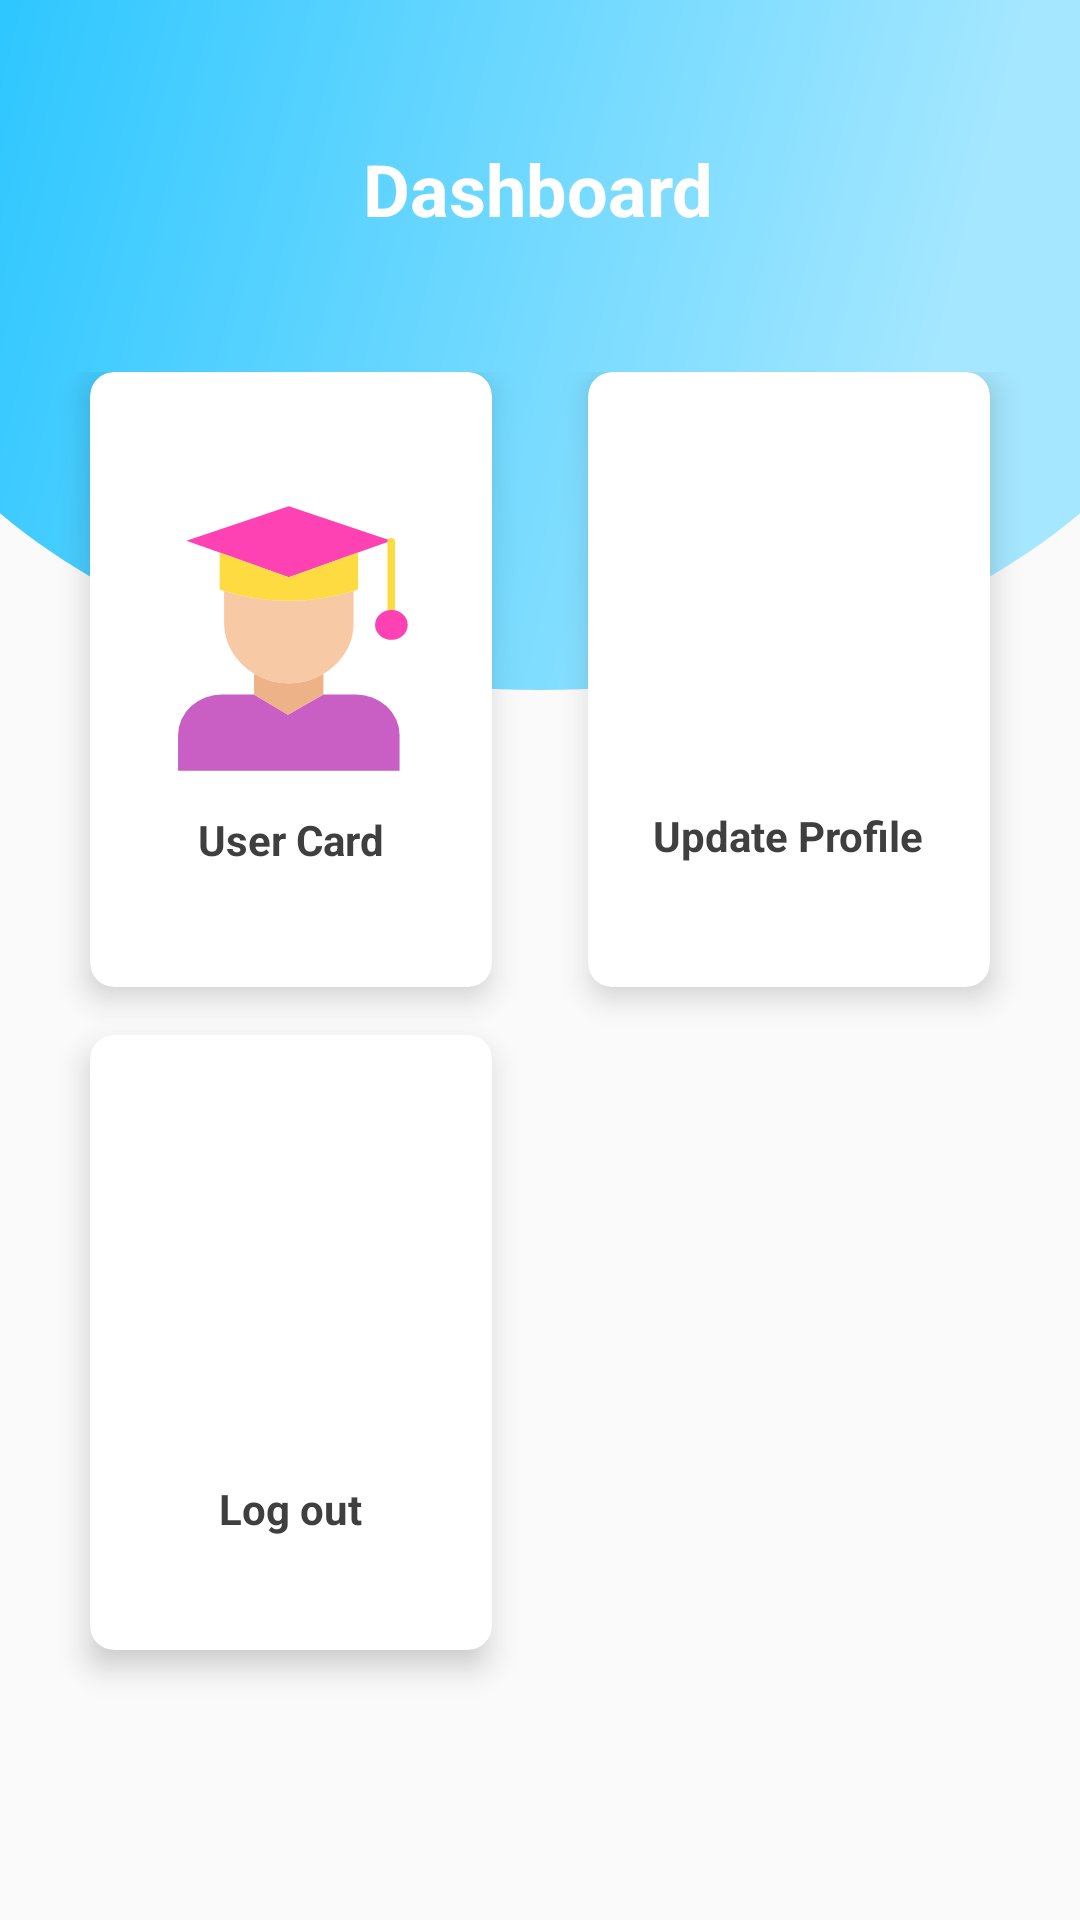

Locate icon controls on the screen. Image size 1080x1920, boxes as (x1, y1, x2, y2).
profile: (178, 506, 408, 771)
